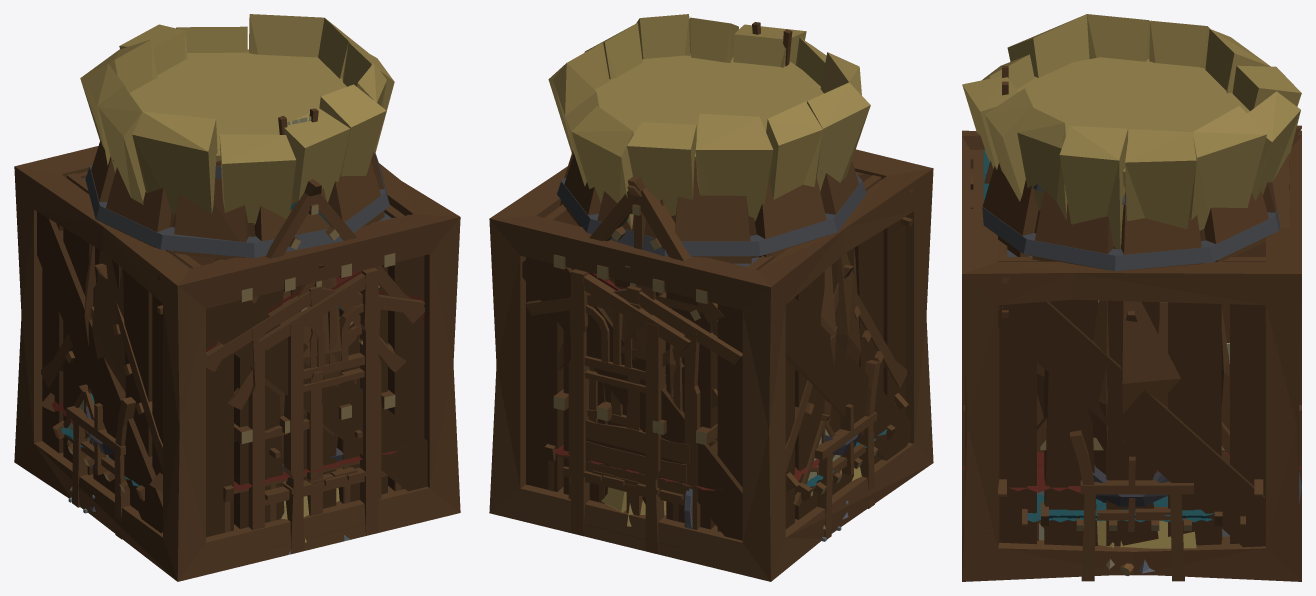
The model's file is village.glb.
The picture shows the model from 3 angles, left to right: view 1: azimuth 30°, elevation 25°; view 2: azimuth 150°, elevation 25°; view 3: azimuth 270°, elevation 25°; orthographic projection. The views are drawn at different scales.
Visible parts, largest first — view 1: crate, hay, barrel, stall2, stall1, inn, bench, house1, house3, house2, mill, stable (+1 smaller); view 2: crate, hay, barrel, stall2, stall1, cart, well, bench, inn, house3, mill, house1 (+2 smaller); view 3: crate, hay, barrel, bench, mill, house1, stall2, stable, smithy, well, cauldron, house3 (+2 smaller).
Part boxes in pixels (x1,y1,x2,y2): crate: (14,146,460,581); hay: (80,14,394,542); barrel: (84,141,389,471); stall2: (258,267,378,554); stall1: (206,286,424,530); inn: (41,263,404,532); bench: (66,397,136,539); house1: (206,179,424,371); house3: (66,171,404,554); house2: (228,265,406,409); mill: (52,108,408,500); stable: (58,384,108,513); crate: (489,149,933,581); hay: (548,14,870,526); barrel: (557,150,866,425); stall2: (571,269,690,554); stall1: (525,285,742,529); cart: (570,305,692,529); well: (571,176,724,502); bench: (815,360,880,539); inn: (544,264,906,531); house3: (544,171,881,445); mill: (752,22,912,501); house1: (603,185,717,336); crate: (962,130,1301,581); hay: (962,14,1301,548); barrel: (982,161,1280,502); bench: (1070,430,1193,581); mill: (1002,66,1222,530); house1: (962,132,1301,226); stall2: (962,275,1301,539); stable: (1022,492,1245,575); smithy: (998,451,1263,536); well: (1272,125,1301,227); cauldron: (1092,465,1169,506); house3: (963,239,1301,450).
Bounding box in the file's own units: 1 × 1.43 × 1.
